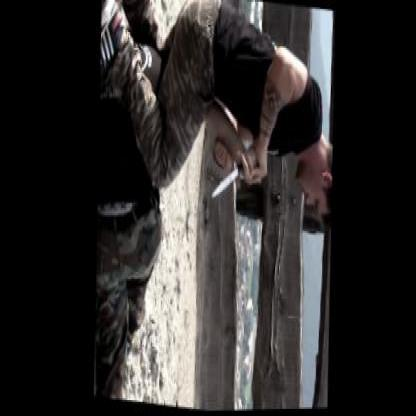knife: (206, 147, 252, 209)
